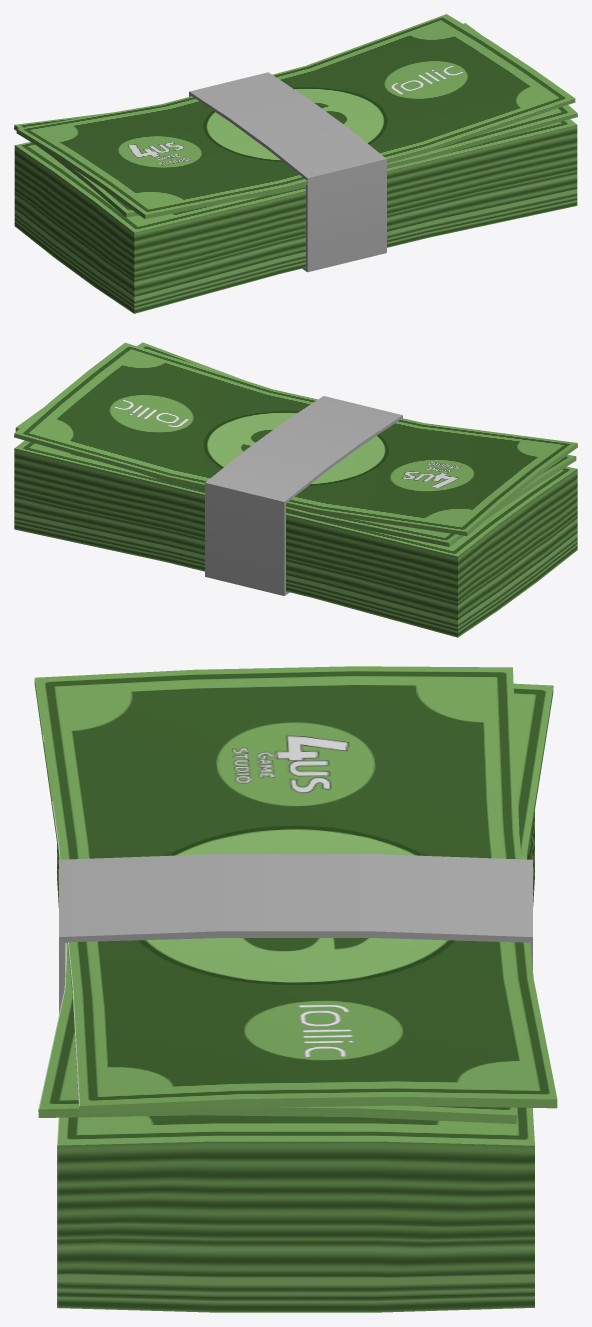
The model's file is 4usDolar.fbx.
3 views of the same model, one above another, from view 1: azimuth 30°, elevation 25°; view 2: azimuth 150°, elevation 25°; view 3: azimuth 270°, elevation 25° (orthographic). The views are drawn at different scales.
Visible parts, largest first — view 1: dolar2; view 2: dolar2; view 3: dolar2.
Boxes of the visible parts, x1,y1,x2,y2 form: dolar2: [14, 14, 577, 313]; dolar2: [14, 342, 577, 637]; dolar2: [34, 666, 557, 1312].
Bounding box in the file's own units: 15.67 × 3.61 × 7.87.
Materials: 2 (2 with a texture image).
